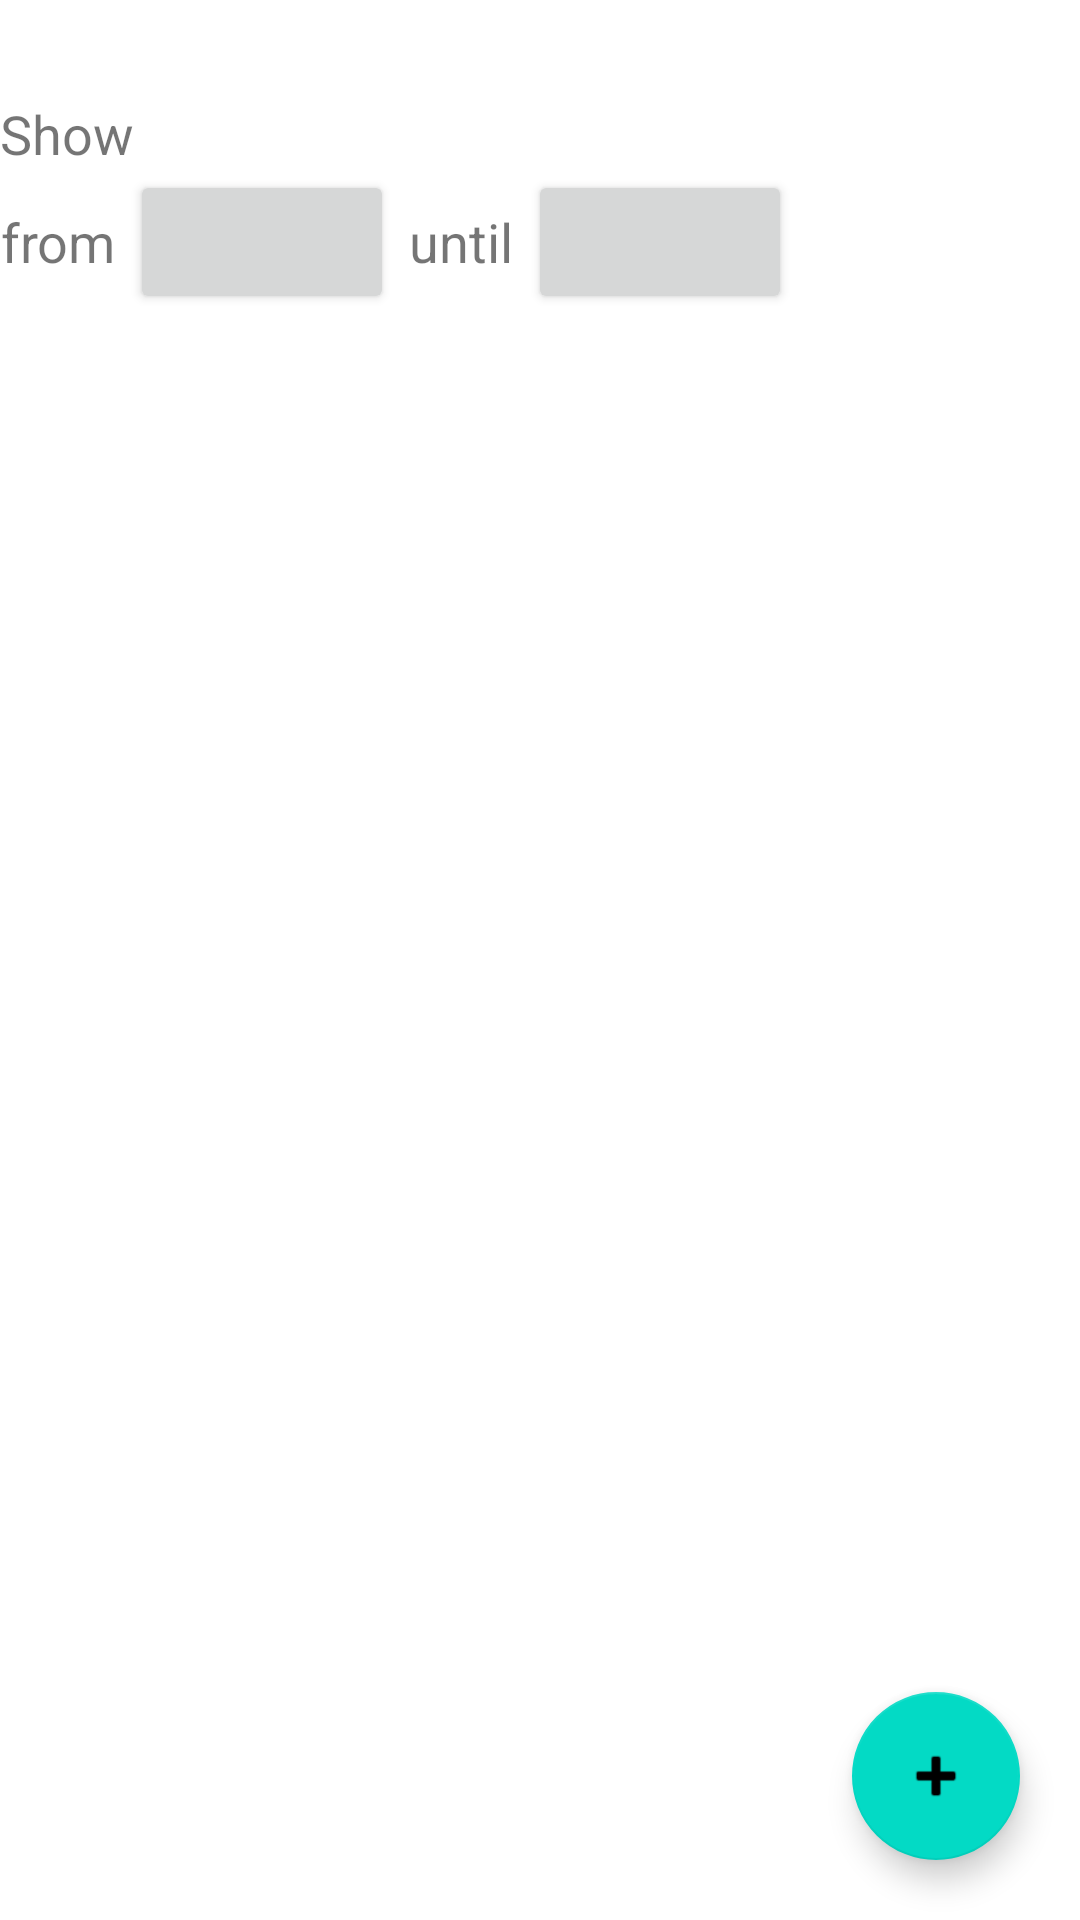

Icons on this 1080 × 1920 Android screen, each with the point to tap as [x,y]:
add event: [936,1776]
